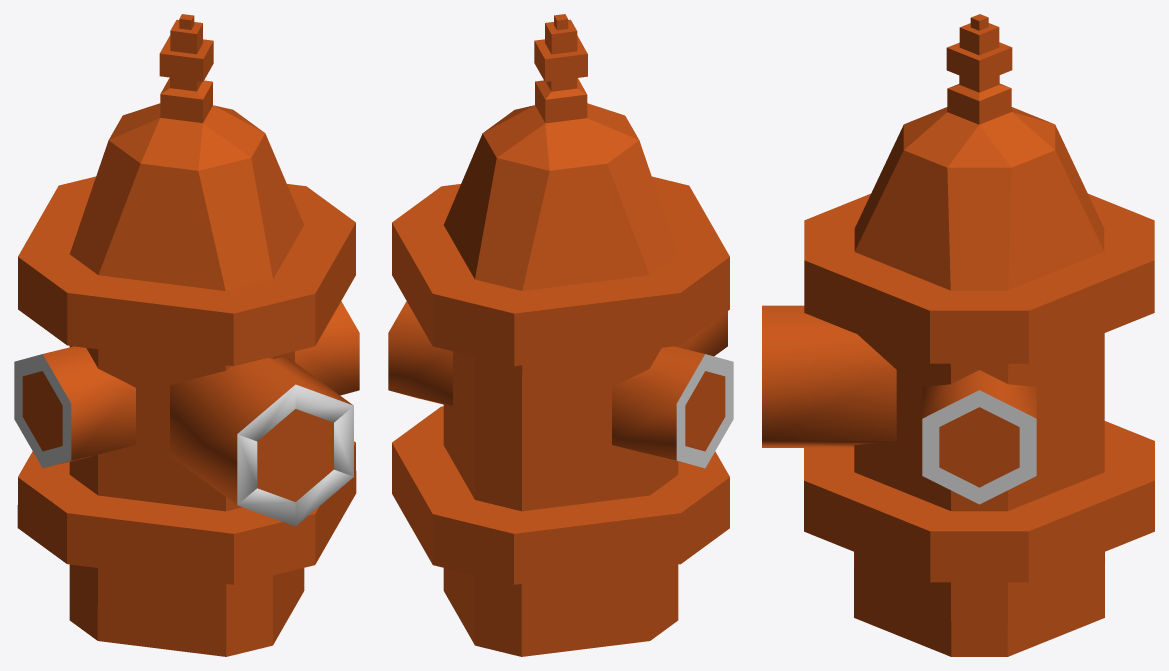
File: Start.fbx
The picture shows the model from 3 angles, left to right: view 1: azimuth 30°, elevation 25°; view 2: azimuth 150°, elevation 25°; view 3: azimuth 270°, elevation 25°; orthographic projection.
Visible parts, largest first — view 1: hydrant; view 2: hydrant; view 3: hydrant.
Part boxes in pixels (x1,y1,x2,y2): hydrant: [14, 14, 359, 656]; hydrant: [388, 14, 733, 656]; hydrant: [762, 14, 1154, 656].
Size of the model in its own units: 4.42 by 5.19 by 8.59.
